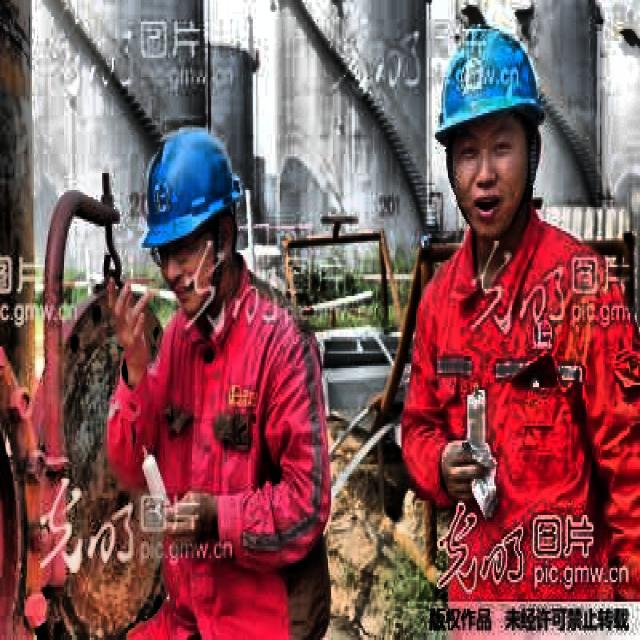helmet: (418, 2, 560, 250), (133, 115, 253, 318)
